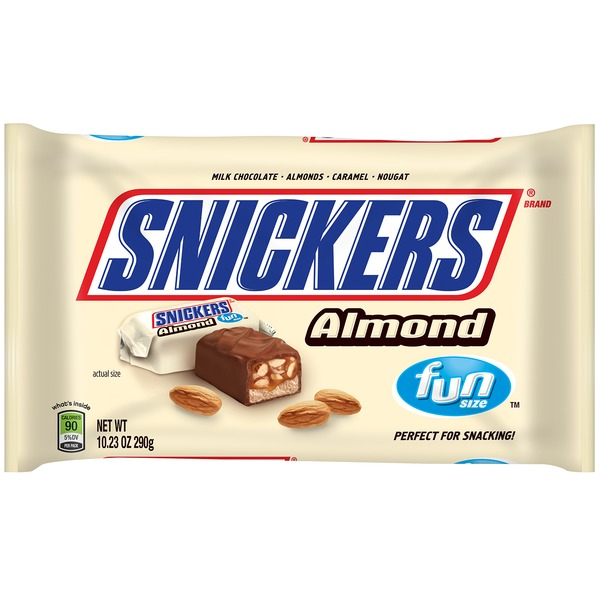snickers: (95, 195, 508, 292)
